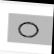no answer: (16, 20, 41, 42)
